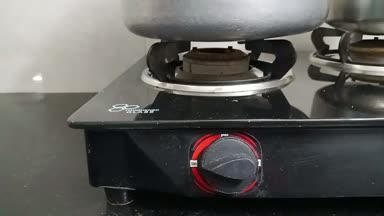noflame_gason: (167, 34, 276, 197)
